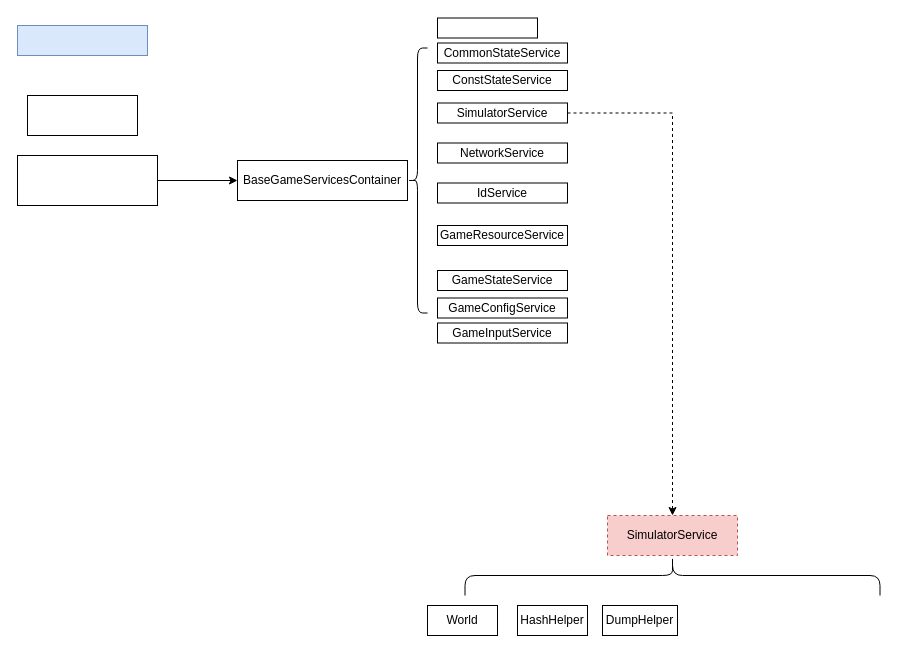
This 898x653 diagram has some shape labels left out. Here are the shapes that lost their labels. From the top down, the box of each, then its label:
(16, 24, 148, 56): MainScript
(436, 17, 538, 38): RandomService
(26, 94, 138, 136): Launcher
(16, 154, 158, 206): UnityServiceContainer
